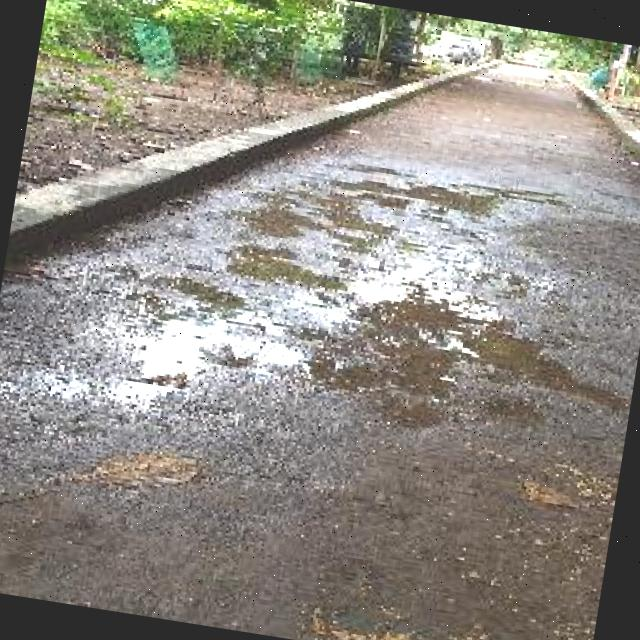stagnation: (292, 134, 584, 458)
